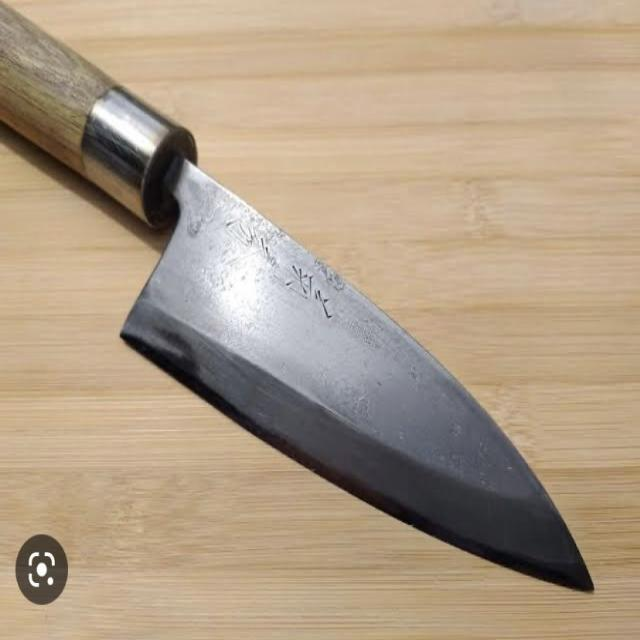Knife: (0, 2, 604, 611)
